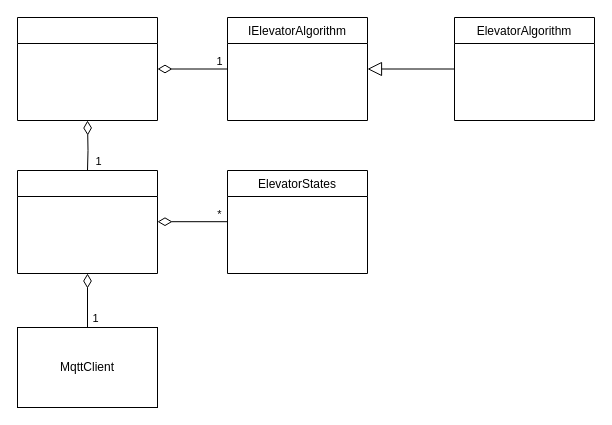
Image size: 612x425. Some labels were removed from this diagram. Each missing label, with the box of its shape:
ElevatorMqttRouter: (16, 170, 158, 274)
Main: (16, 16, 158, 120)
